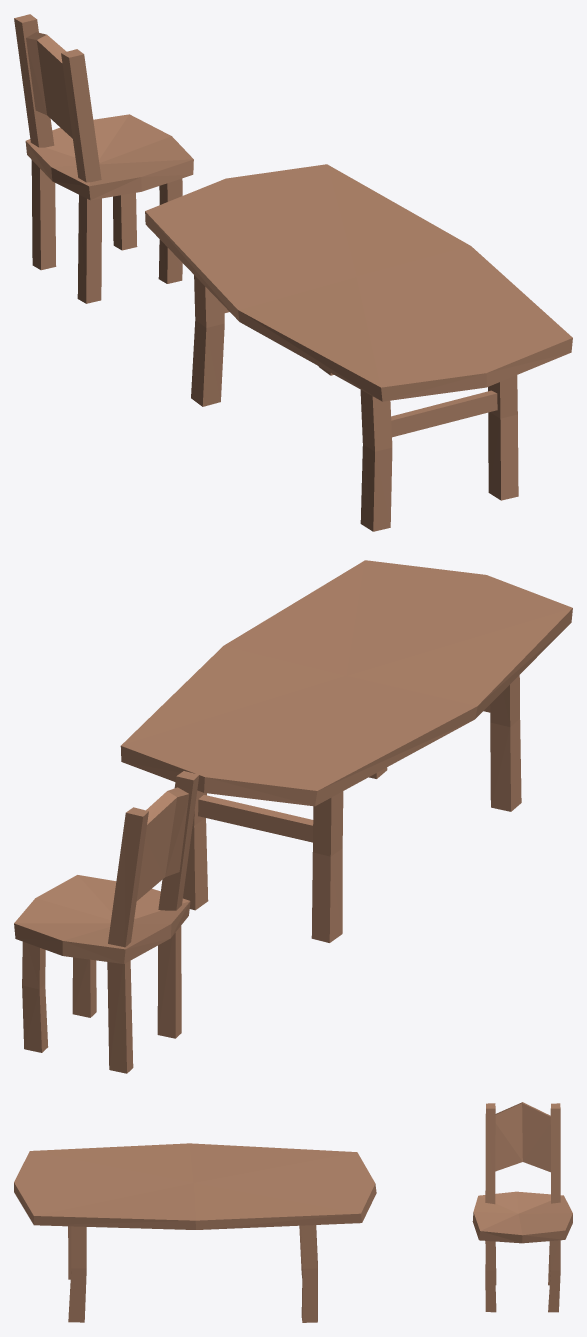
The model's file is chair_table.fbx.
3 renders of one model, top to bottom at view 1: azimuth 30°, elevation 25°; view 2: azimuth 150°, elevation 25°; view 3: azimuth 270°, elevation 25°, orthographic. The views are drawn at different scales.
Visible parts, largest first — view 1: Cube.062, Cube.385; view 2: Cube.062, Cube.385; view 3: Cube.062, Cube.385.
Part boxes in pixels (x1,y1,x2,y2): Cube.062: [145, 164, 572, 531]; Cube.385: [14, 14, 193, 303]; Cube.062: [120, 560, 572, 942]; Cube.385: [14, 771, 199, 1073]; Cube.062: [14, 1143, 376, 1322]; Cube.385: [472, 1102, 572, 1312].
Size of the model in its own units: 100 by 102 by 298.
Materials: 1 (1 with a texture image).
